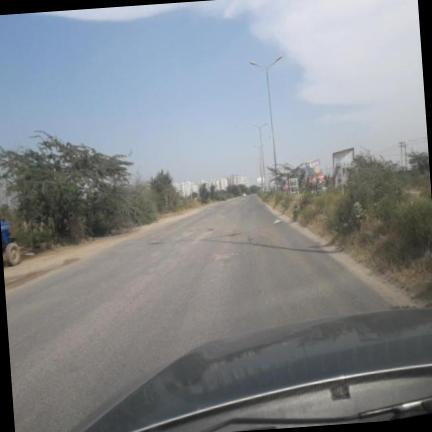Road: (5, 197, 389, 431)
